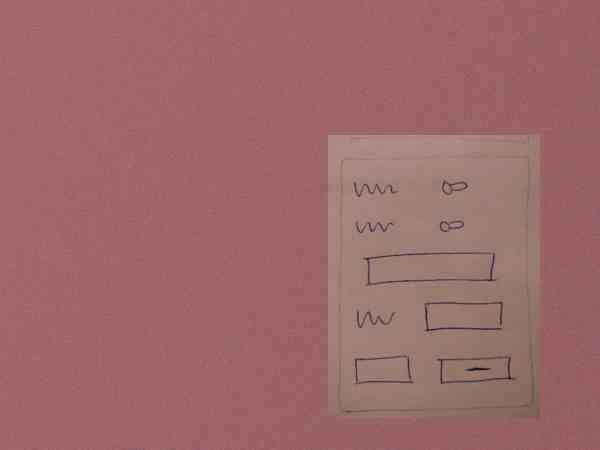button: (433, 351, 520, 389)
switch: (437, 175, 475, 198), (435, 213, 470, 234)
text: (352, 178, 401, 202), (351, 305, 398, 330), (352, 215, 398, 234)
text_input: (356, 249, 505, 290), (420, 296, 508, 336), (351, 352, 417, 391)
